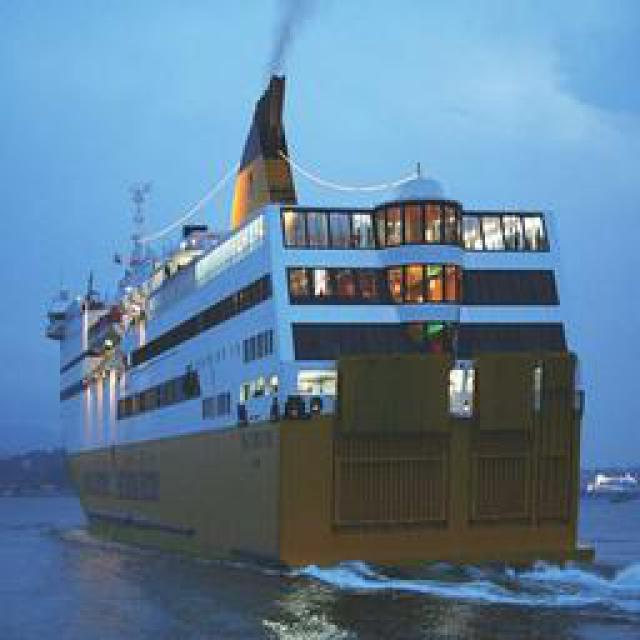Ship: (590, 472, 640, 502)
